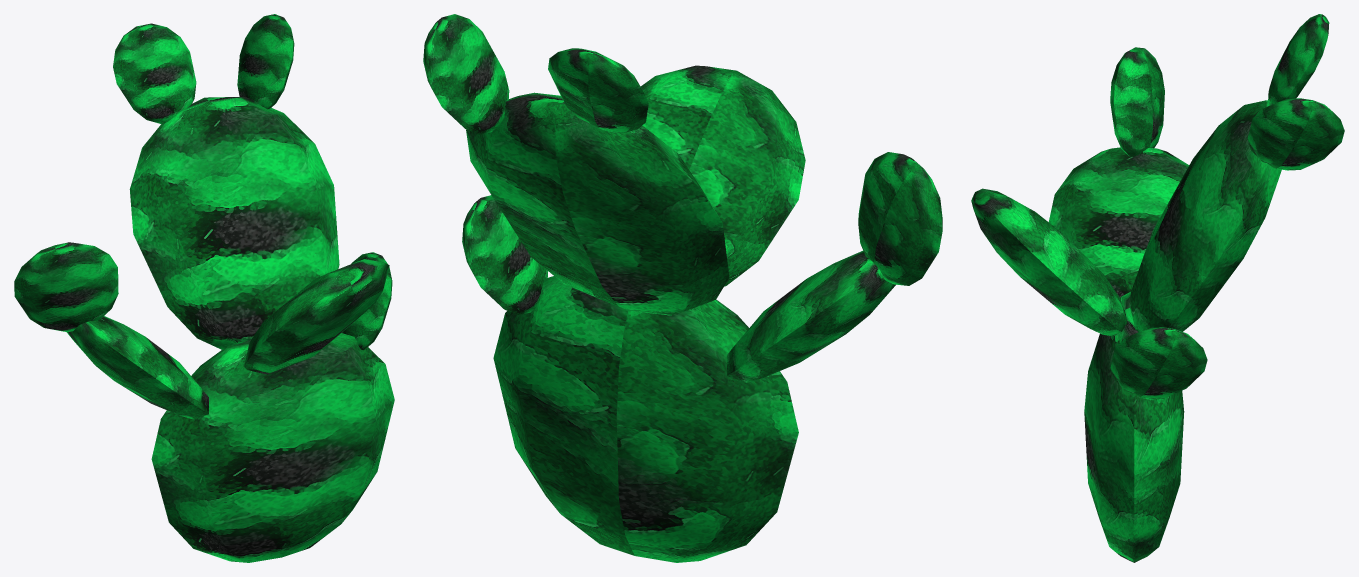
File: cactus3.fbx
The picture shows the model from 3 angles, left to right: view 1: azimuth 30°, elevation 25°; view 2: azimuth 150°, elevation 25°; view 3: azimuth 270°, elevation 25°; orthographic projection. The views are drawn at different scales.
Parts seen in each view (by area): view 1: polymsh; view 2: polymsh; view 3: polymsh.
Part boxes in pixels (left/top/right/bottom): polymsh: left=14, top=14, right=394, bottom=562; polymsh: left=423, top=14, right=942, bottom=562; polymsh: left=971, top=14, right=1344, bottom=562.
Size of the model in its own units: 45.29 by 55.8 by 37.17.
